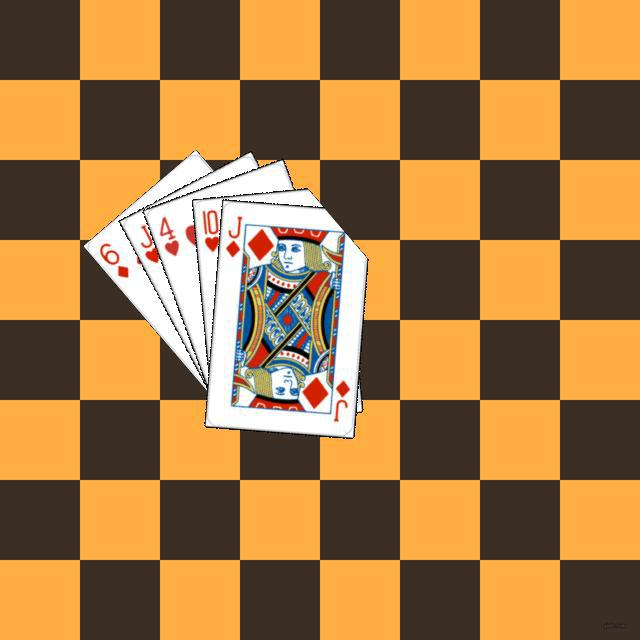10h: (197, 204, 221, 254)
4h: (154, 211, 181, 258)
6d: (94, 238, 131, 280)
Jd: (221, 211, 244, 259), (328, 375, 351, 423)
Jh: (135, 219, 161, 265)
